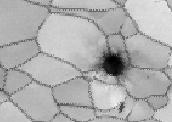good_void: (89, 48, 131, 78), (117, 102, 127, 113), (120, 23, 124, 29)
